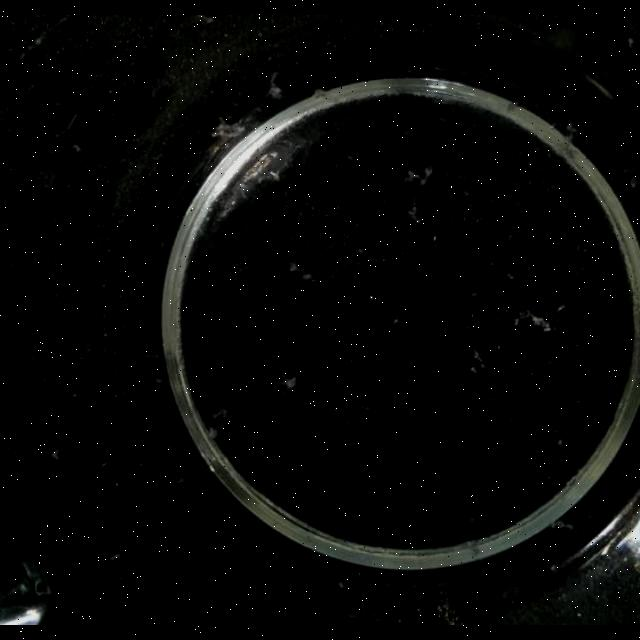Fibre: (210, 116, 248, 142), (514, 308, 554, 332), (403, 165, 433, 188), (287, 260, 315, 284), (266, 74, 284, 100), (277, 372, 297, 394), (470, 348, 486, 370), (552, 519, 574, 533), (407, 207, 423, 226), (212, 407, 228, 421), (564, 122, 578, 138)
microbeads: (50, 448, 60, 462)
